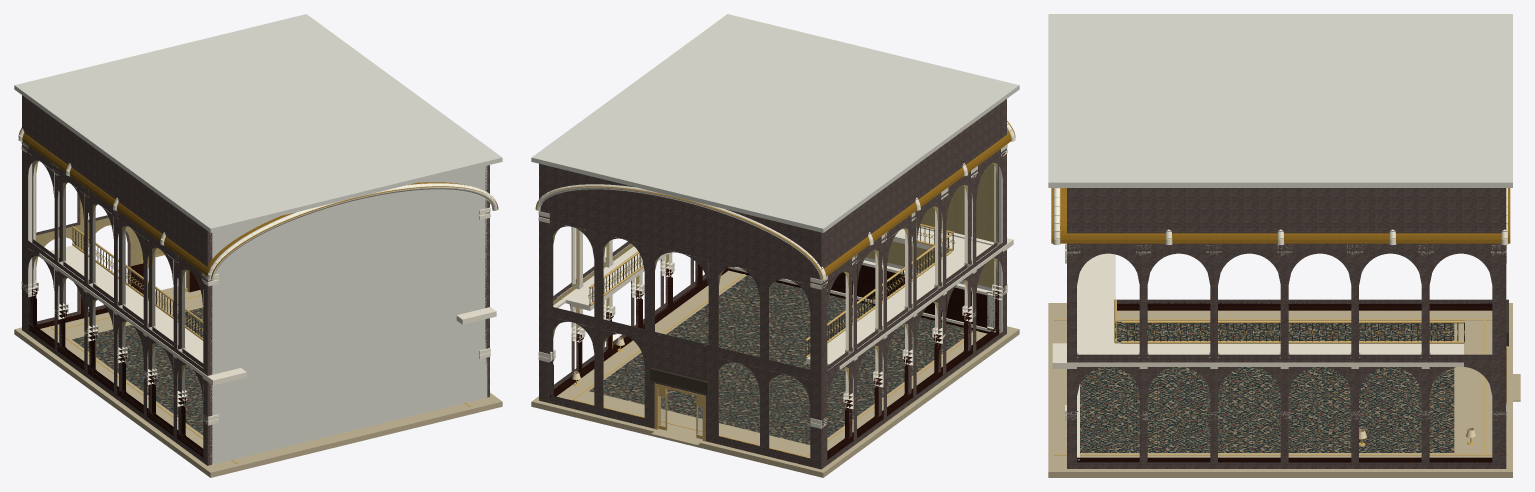
File: lobby.glb
The picture shows the model from 3 angles, left to right: view 1: azimuth 30°, elevation 25°; view 2: azimuth 150°, elevation 25°; view 3: azimuth 270°, elevation 25°; orthographic projection. The views are drawn at different scales.
Visible parts, largest first — view 1: Ivory plaster, Exterior city brick, Molding highlights, Honey marble, Victorian woven floral carpet, Walnut paneling, Vaulted gold leaf, Damask silk, Antique brass, Bronze balustrades; view 2: Ivory plaster, Exterior city brick, Victorian woven floral carpet, Molding highlights, Honey marble, Walnut paneling, Damask silk, Antique brass, Vaulted gold leaf, Bronze balustrades; view 3: Ivory plaster, Exterior city brick, Victorian woven floral carpet, Honey marble, Molding highlights, Vaulted gold leaf, Walnut paneling, Antique brass, Bronze balustrades.
Part boxes in pixels (left/top/right/bottom): Ivory plaster: left=14, top=14, right=502, bottom=464; Exterior city brick: left=22, top=95, right=489, bottom=465; Molding highlights: left=18, top=128, right=497, bottom=425; Honey marble: left=14, top=286, right=502, bottom=477; Victorian woven floral carpet: left=72, top=307, right=203, bottom=435; Walnut paneling: left=29, top=263, right=203, bottom=457; Vaulted gold leaf: left=18, top=127, right=498, bottom=279; Damask silk: left=33, top=156, right=201, bottom=395; Antique brass: left=49, top=226, right=470, bottom=463; Bronze balustrades: left=72, top=229, right=201, bottom=337; Ivory plaster: left=531, top=14, right=1019, bottom=333; Exterior city brick: left=539, top=99, right=1006, bottom=469; Victorian woven floral carpet: left=589, top=275, right=972, bottom=444; Molding highlights: left=536, top=122, right=1015, bottom=428; Honey marble: left=531, top=270, right=1019, bottom=477; Walnut paneling: left=550, top=262, right=999, bottom=459; Damask silk: left=553, top=159, right=997, bottom=448; Antique brass: left=563, top=223, right=977, bottom=463; Vaulted gold leaf: left=535, top=121, right=1015, bottom=279; Bronze balustrades: left=589, top=226, right=953, bottom=394; Ivory plaster: left=1048, top=14, right=1512, bottom=187; Exterior city brick: left=1067, top=188, right=1506, bottom=468; Victorian woven floral carpet: left=1080, top=321, right=1454, bottom=452; Honey marble: left=1048, top=303, right=1520, bottom=477; Molding highlights: left=1052, top=188, right=1508, bottom=460; Vaulted gold leaf: left=1051, top=188, right=1510, bottom=243; Walnut paneling: left=1077, top=302, right=1492, bottom=462; Antique brass: left=1054, top=299, right=1507, bottom=455; Bronze balustrades: left=1115, top=299, right=1508, bottom=346.
Bounding box in the file's own units: 7.14 × 5.82 × 8.44.
Materials: 12 (5 with a texture image).
